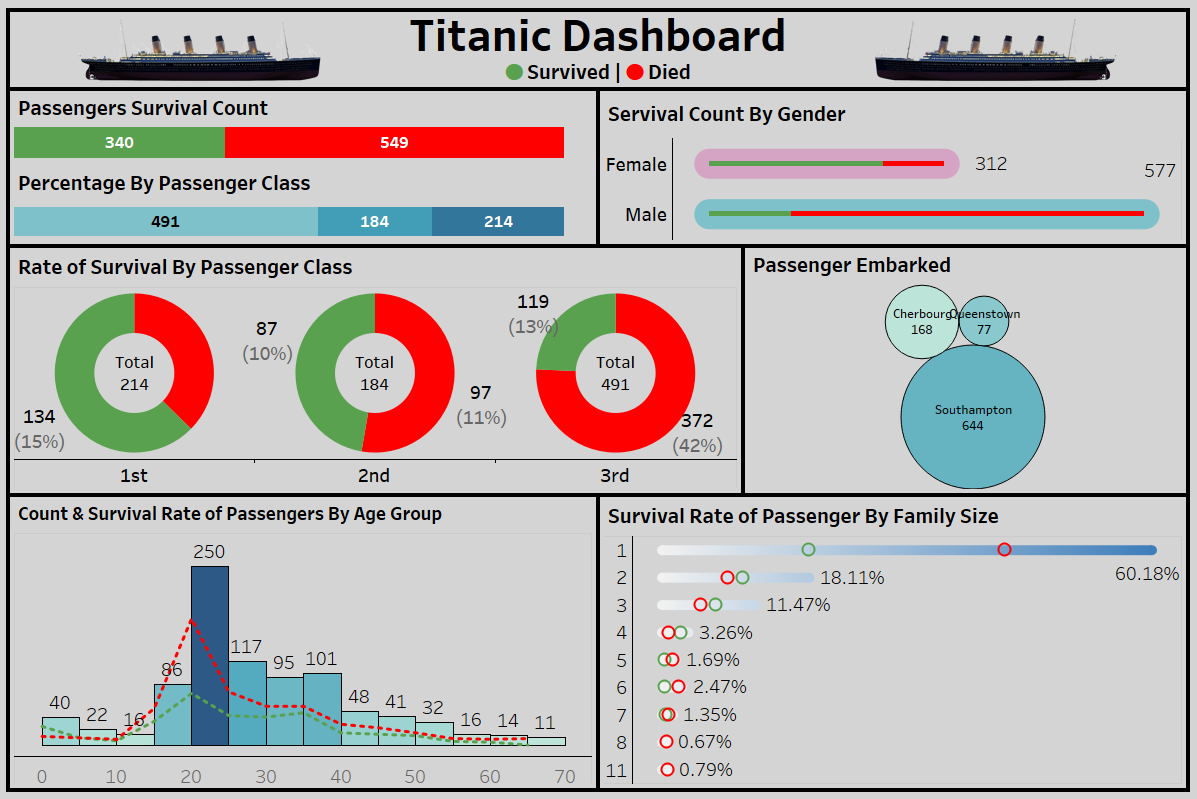

What the dashboard file says about the page in this screenshot:
{"tool":"tableau","page":{"name":"Dashboard 1","canvas":[1200,800],"ordinal":0},"visuals":[{"type":"image","param":"Image/left.png","box":[12,12,381,75]},{"type":"text","box":[393,12,414,43]},{"type":"image","param":"Image/sinking-of-the-rms-titanic-titanic-honor-and-glory-youtube-southampton-you","box":[807,12,381,75]},{"type":"text","box":[393,55,414,32]},{"type":"text","box":[12,91,586,32]},{"type":"text","box":[602,91,586,43]},{"type":"worksheet","title":"Survived KPI's","mark":"Bar","cols":["Calculation_664280974132330498"],"box":[12,123,586,42]},{"type":"worksheet","title":"Passengers by Gender","mark":"Line","rows":["Sex"],"cols":["Calculation_664280974132330498"],"box":[602,134,586,110]},{"type":"text","box":[12,165,586,33]},{"type":"worksheet","title":"Pclass KPI's","mark":"Automatic","cols":["Calculation_664280974132330498"],"box":[12,198,586,46]},{"type":"text","box":[12,248,731,35]},{"type":"text","box":[747,248,441,32]},{"type":"worksheet","title":"Passengers Embarked","mark":"Circle","box":[747,280,441,213]},{"type":"worksheet","title":"Passengers by Class","mark":"Pie","rows":["Calculation_664280974138044429","Calculation_664280974138044429"],"cols":["Pclass"],"box":[12,283,731,210]},{"type":"text","box":[12,497,586,32]},{"type":"text","box":[602,497,586,35]},{"type":"worksheet","title":"Passengers by Age Group","mark":"Automatic","rows":["PassengerId"],"cols":["Age (bin)","Age (bin)"],"box":[12,529,586,259]},{"type":"worksheet","title":"Passengers by Family Size","mark":"Line","rows":["Calculation_664280974131924993"],"cols":["Calculation_664280974132330498"],"box":[602,532,586,256]}]}

Visuals, with their boxes in screenshot pixels (x1, y1, x2, y2), scaled from the page's 1200x800 canvas onto the 1197x799 screenshot:
image: (12, 12, 392, 87)
text: (392, 12, 805, 55)
image: (805, 12, 1185, 87)
text: (392, 55, 805, 87)
text: (12, 91, 597, 123)
text: (600, 91, 1185, 134)
"Survived KPI's" worksheet (Bar marks): (12, 123, 597, 165)
"Passengers by Gender" worksheet (Line marks): (600, 134, 1185, 244)
text: (12, 165, 597, 198)
"Pclass KPI's" worksheet: (12, 198, 597, 244)
text: (12, 248, 741, 283)
text: (745, 248, 1185, 280)
"Passengers Embarked" worksheet (Circle marks): (745, 280, 1185, 492)
"Passengers by Class" worksheet (Pie marks): (12, 283, 741, 492)
text: (12, 496, 597, 528)
text: (600, 496, 1185, 531)
"Passengers by Age Group" worksheet: (12, 528, 597, 787)
"Passengers by Family Size" worksheet (Line marks): (600, 531, 1185, 787)
